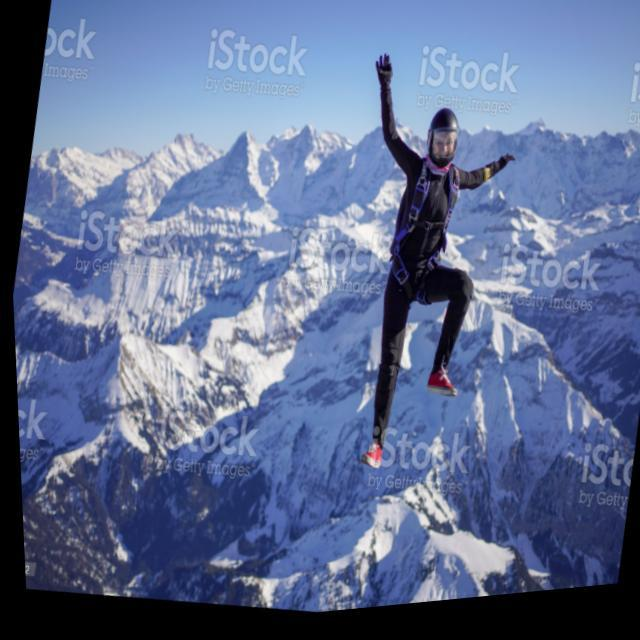belt: (370, 152, 469, 324)
